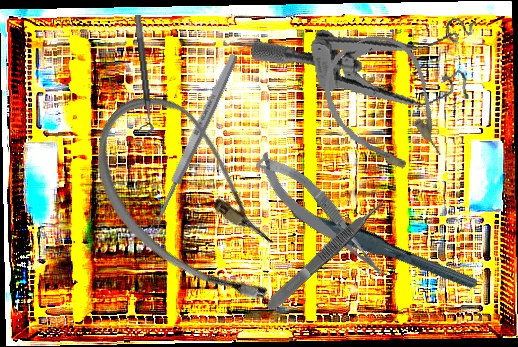Cannula: (62, 74, 324, 326), (306, 20, 465, 193)
Fixation Ring: (124, 14, 155, 137)
Micro Scissor: (249, 139, 393, 296)
Speculum: (249, 0, 491, 138)
Surgical Spoon: (144, 52, 241, 238)
Tissue Forceps: (279, 178, 480, 313), (262, 196, 390, 314)
